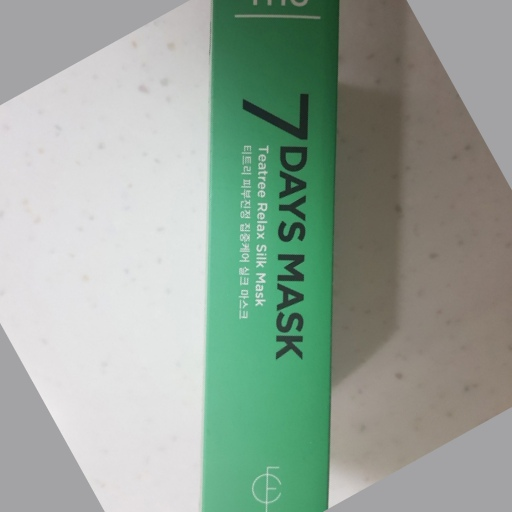Paper_0: (199, 1, 343, 512)
